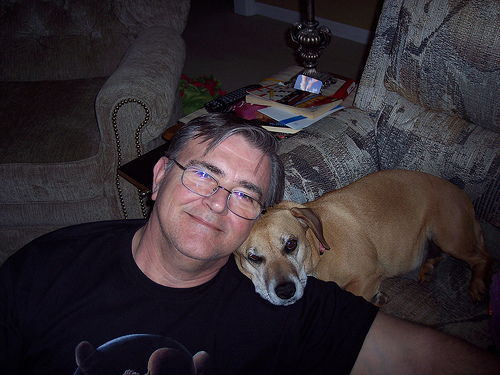without_mask: (153, 130, 271, 262)
